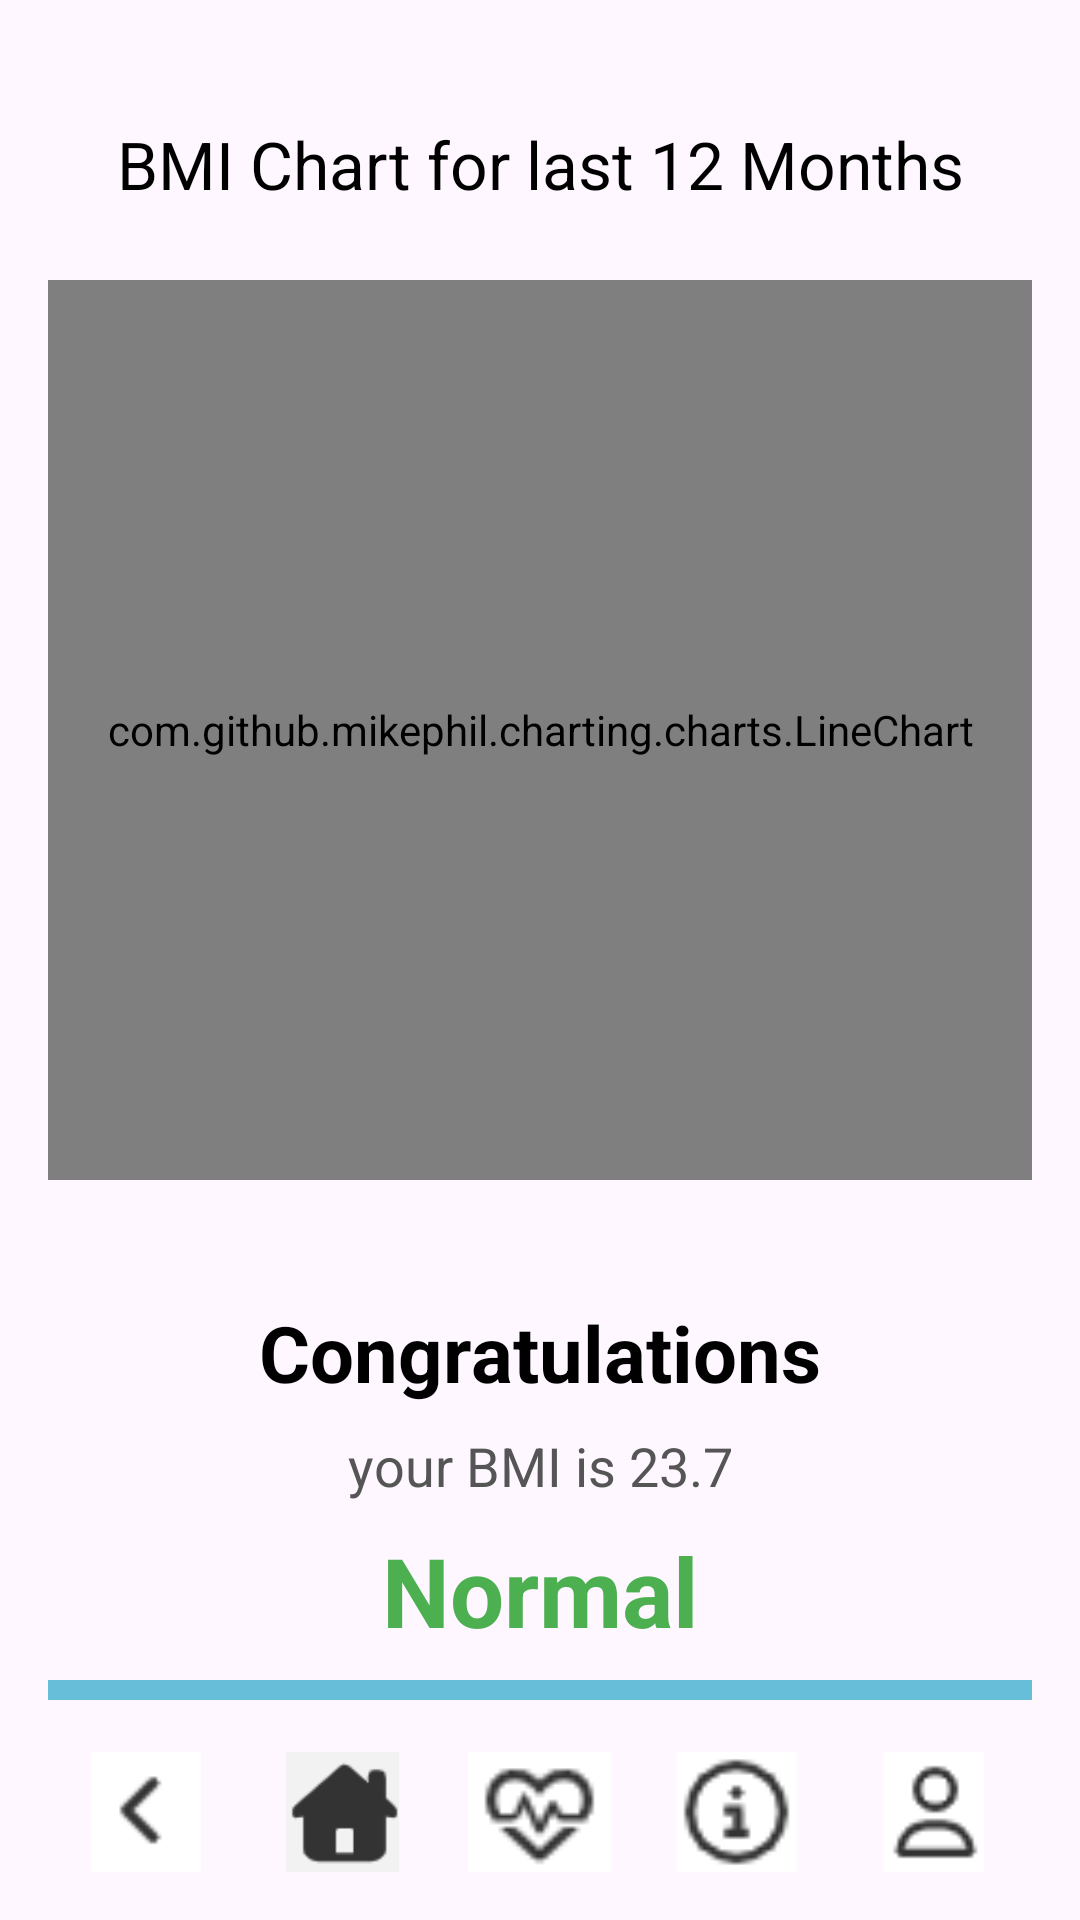

Screen size 1080w x 1920h. Icon name, then its center in pixels as (x,y):
back: (140,1810)
home: (344,1813)
info: (736,1812)
profile: (935,1812)
